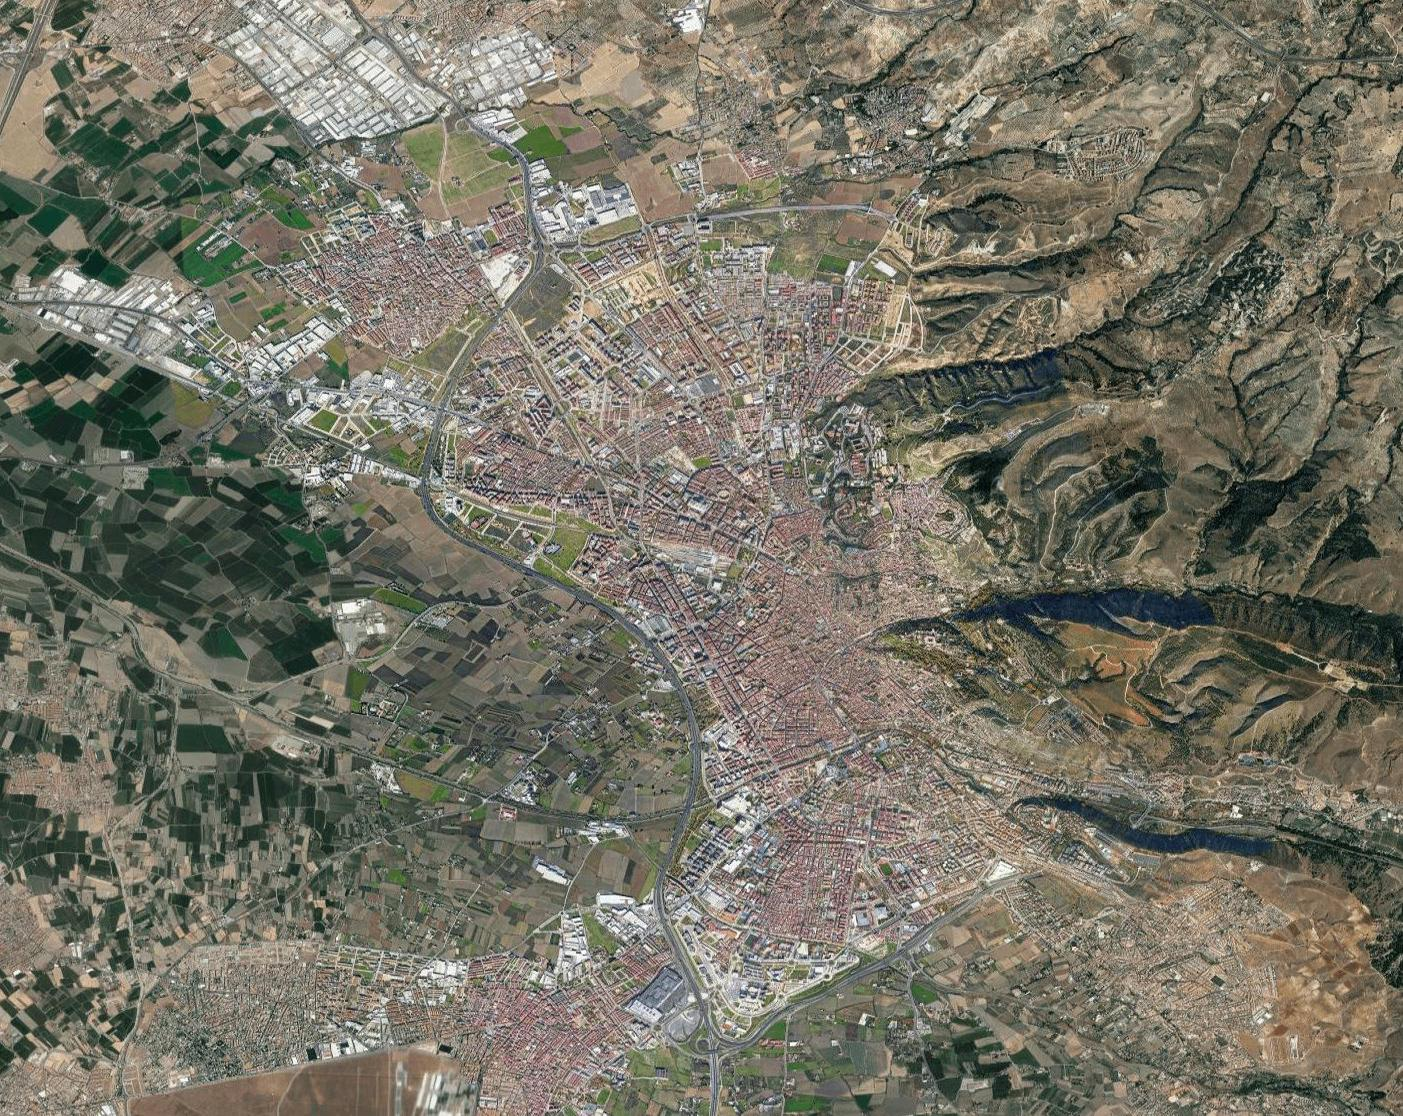industrial: (251, 15, 408, 133), (34, 266, 184, 352), (530, 161, 638, 237), (450, 38, 553, 114), (247, 319, 330, 381)
motorway: (616, 614, 681, 694), (802, 947, 895, 1001), (724, 999, 799, 1058), (437, 522, 525, 569), (527, 568, 615, 616), (897, 897, 970, 953), (679, 694, 705, 807), (653, 883, 687, 967), (657, 809, 695, 883), (417, 418, 441, 523), (684, 965, 716, 1043), (701, 1042, 722, 1116)
train_station: (686, 549, 720, 573)
